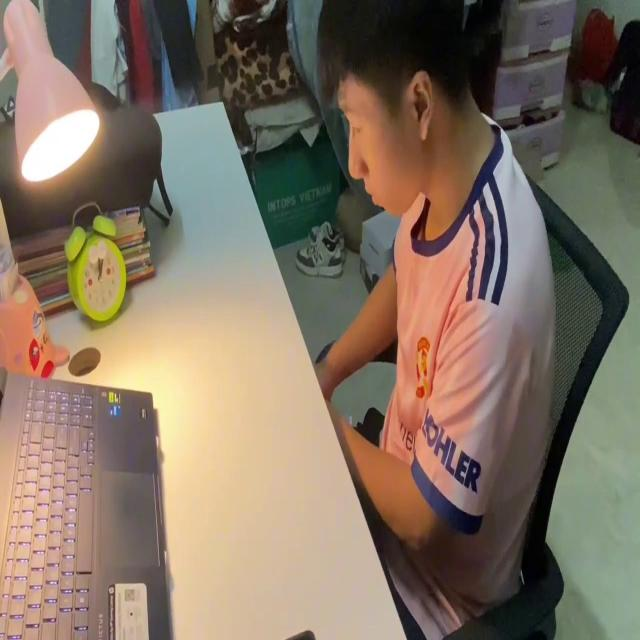laptop: (0, 346, 174, 640)
student: (312, 0, 554, 640)
